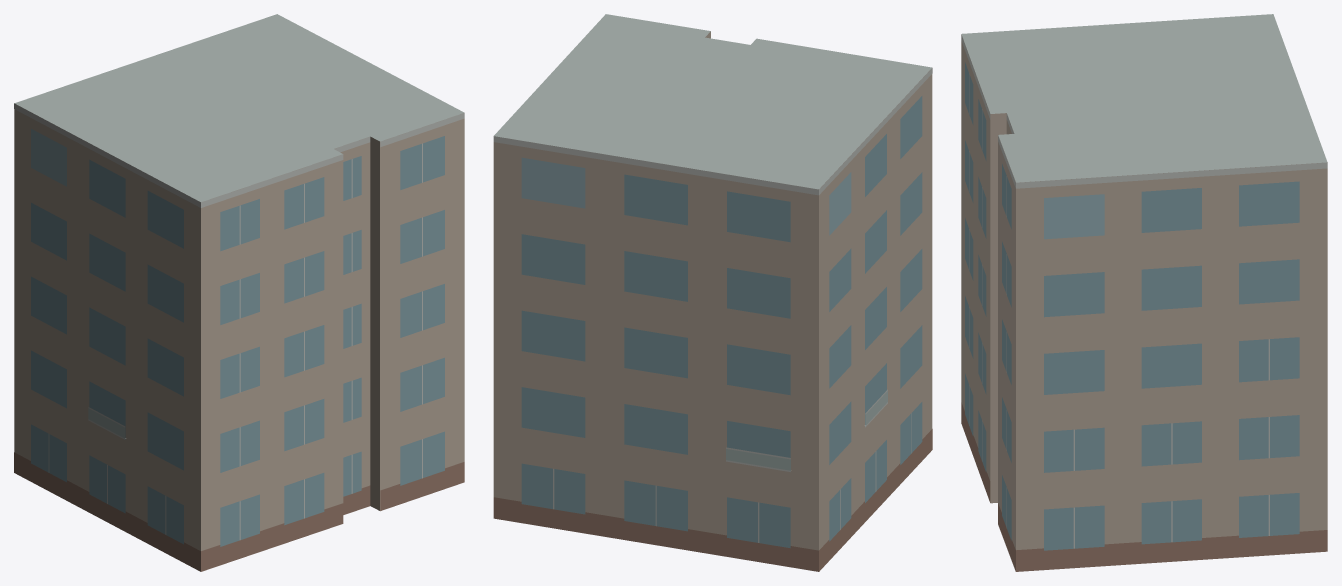
File: survey-upis-32901878.glb
3 views of the same model, side by side, from view 1: azimuth 30°, elevation 25°; view 2: azimuth 150°, elevation 25°; view 3: azimuth 270°, elevation 25° (orthographic). The views are drawn at different scales.
Visible parts, largest first — view 1: survey-upis-32901878.tmp; view 2: survey-upis-32901878.tmp; view 3: survey-upis-32901878.tmp.
Part boxes in pixels (x1,y1,x2,y2): survey-upis-32901878.tmp: [14, 14, 464, 571]; survey-upis-32901878.tmp: [493, 14, 932, 571]; survey-upis-32901878.tmp: [961, 14, 1327, 571].
Bounding box in the file's own units: 14.56 × 15.65 × 13.36.
